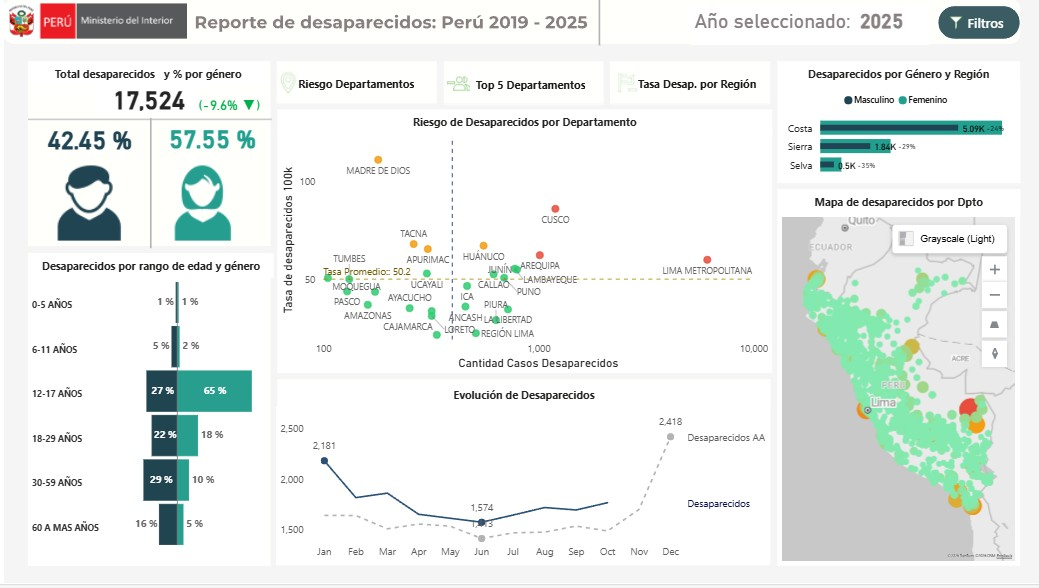

What the dashboard file says about the page in this screenshot:
{"tool":"powerbi","page":{"name":" Reporte","canvas":[1280,720],"ordinal":1},"visuals":[{"type":"textbox","title":"Tasa desaparecidos titulo","box":[336.7,135.6,608.3,30],"z":0,"group":"g1"},{"type":"card","fields":{"Values":["Medidas.% Desaparecidos Mujeres"]},"box":[181.3,148.3,150,45],"z":0},{"type":"textbox","title":"Tasa desaparecidos titulo","box":[337.8,136.7,606.7,28.9],"z":1000},{"type":"scatterChart","title":"Scatterplot riesgo por depto","fields":{"Y":["Medidas.Tasa de desaparecidos"],"X":["Medidas.Cantidad_Casos"],"Category":["Dpt_Poblacion.DPTO_HECHO"]},"box":[337.1,161.2,608.8,298.8],"z":1000,"group":"g1"},{"type":"textbox","box":[952,77,298,29],"z":2000},{"type":"card","fields":{"Values":["Medidas.% Desaparecidos Varones"]},"box":[30.5,147.5,150,47.5],"z":3000},{"type":"textbox","box":[951.9,234.4,298.1,28.8],"z":4000},{"type":"shape","box":[29.2,143.1,300,10.8],"z":5000},{"type":"PBI_CV_9272D058_BEA0_476A_B090_A712545F92FA","fields":{"Category":["Dataset.Region"],"Value":["Medidas.Cantidad Casos Varones"],"ComparisonValue":["Medidas.Cantidad Casos Mujeres"]},"box":[951.7,105,298.3,121.7],"z":6000},{"type":"shape","box":[151,146.9,60,160],"z":7000},{"type":"textbox","box":[30.1,313.4,301,30],"z":8000},{"type":"textbox","box":[30,77.1,295.7,28.6],"z":9000},{"type":"textbox","box":[336.4,472.7,606.4,29.1],"z":10000},{"type":"card","fields":{"Values":["Medidas.Cantidad_Casos"]},"box":[113.3,101.7,130,41.7],"z":11000},{"type":"group","id":"g1","title":"Riesgo x dpto","box":[336.7,135.6,609.2,324.3],"z":14000},{"type":"actionButton","title":"Filter button","box":[1150,8.6,100,40],"z":15000},{"type":"actionButton","box":[335,76.9,197.5,53],"z":16000},{"type":"actionButton","box":[746.2,76.9,197.5,53.1],"z":17000},{"type":"actionButton","box":[541.2,78.1,197,53.1],"z":18000},{"type":"image","box":[191.1,200,106.7,102.2],"z":19000},{"type":"image","box":[51.2,200,106.2,102.5],"z":20000},{"type":"lineChart","fields":{"Category":["Calendario.NMesCorto"],"Y":["Medidas.Desaparecidos","Medidas.Año Actual","Medidas.Desaparecidos AA","Medidas.Año Anterior"]},"box":[335,502,607,195],"z":21000},{"type":"azureMap","fields":{"Y":["Dataset.DimCoordenadas.LATITUD"],"X":["Dataset.DimCoordenadas.LONGITUD"],"Size":["Medidas.Tasa de desaparecidos 100k"]},"box":[952,263,298,434],"z":22000},{"type":"shape","box":[720,0,26.2,56.9],"z":23000},{"type":"textbox","box":[845,8.3,293.3,48.3],"z":25000},{"type":"TornadoChart1452517688218","fields":{"Category":["TablaOrdenEdades.RANGO_EDAD"],"Series":["Dataset.Genero"],"Values":["Medidas.% Desaparecidos por Rango_edad"]},"box":[30,343.3,295,353.3],"z":26000},{"type":"card","fields":{"Values":["Medidas.Variacion Texto"]},"box":[229,112,96,37],"z":27000}]}

Visuals, with their boxes in screenshot pixels (x1, y1, x2, y2), scaled from the page's 1280x720 canvas onto the 1039x588 screenshot:
"Tasa desaparecidos titulo" textbox: Rect(273, 111, 767, 135)
card - Medidas.% Desaparecidos Mujeres: Rect(147, 121, 269, 158)
"Tasa desaparecidos titulo" textbox: Rect(274, 112, 767, 135)
"Scatterplot riesgo por depto" scatterChart: Rect(274, 132, 768, 376)
textbox: Rect(773, 63, 1015, 87)
card - Medidas.% Desaparecidos Varones: Rect(25, 120, 147, 159)
textbox: Rect(773, 191, 1015, 215)
shape: Rect(24, 117, 267, 126)
PBI_CV_9272D058_BEA0_476A_B090_A712545F92FA - Dataset.Region x Medidas.Cantidad Casos Varones: Rect(773, 86, 1015, 185)
shape: Rect(123, 120, 171, 251)
textbox: Rect(24, 256, 269, 280)
textbox: Rect(24, 63, 264, 86)
textbox: Rect(273, 386, 765, 410)
card - Medidas.Cantidad_Casos: Rect(92, 83, 197, 117)
"Riesgo x dpto" group: Rect(273, 111, 768, 376)
"Filter button" actionButton: Rect(933, 7, 1015, 40)
actionButton: Rect(272, 63, 432, 106)
actionButton: Rect(606, 63, 766, 106)
actionButton: Rect(439, 64, 599, 107)
image: Rect(155, 163, 242, 247)
image: Rect(42, 163, 128, 247)
lineChart - Calendario.NMesCorto x Medidas.Desaparecidos: Rect(272, 410, 765, 569)
azureMap - Dataset.DimCoordenadas.LATITUD x Dataset.DimCoordenadas.LONGITUD: Rect(773, 215, 1015, 569)
shape: Rect(584, 0, 606, 46)
textbox: Rect(686, 7, 924, 46)
TornadoChart1452517688218 - TablaOrdenEdades.RANGO_EDAD x Dataset.Genero: Rect(24, 280, 264, 569)
card - Medidas.Variacion Texto: Rect(186, 91, 264, 122)
